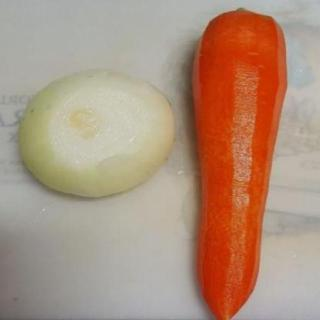carrot: (180, 6, 296, 318)
